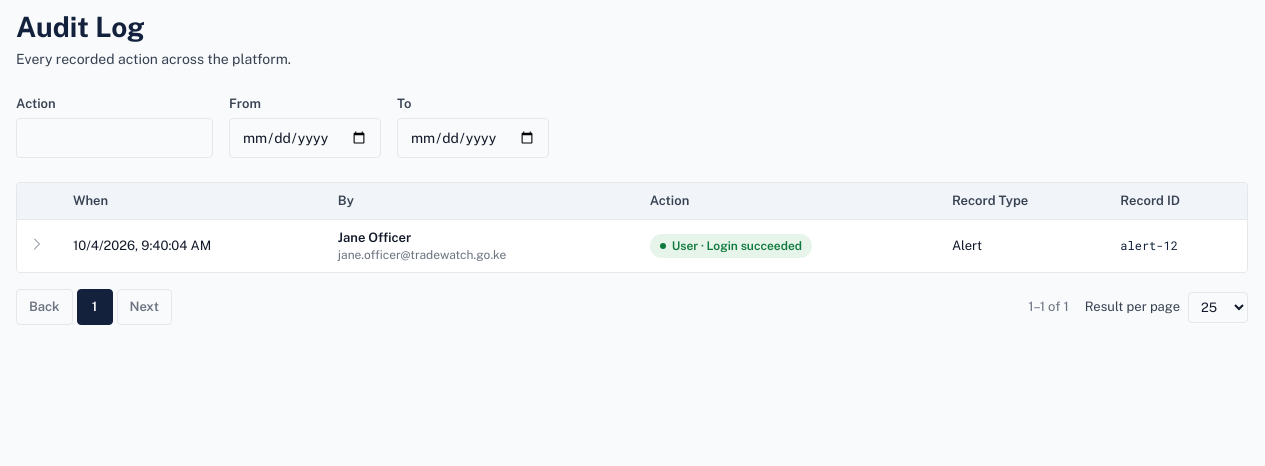
AuditLogPage › shows a no-detail message and the IP for a login attempt with no recorded changes
expect the text "Jane Officer" is shown: met, box [338,230,411,245]
Click the button named "Show what changed". click: (37, 244)
box: [27,234,47,254]
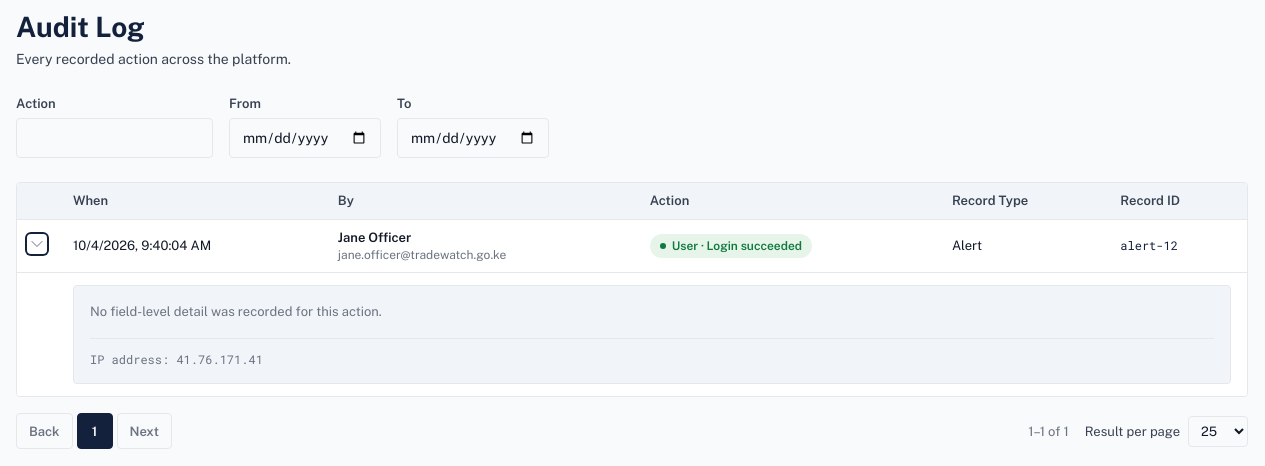
expect the text "No field-level detail was recorded for this action." is shown: met, box [90,304,382,319]
expect the text "IP address: 41.76.171.41" is shown: met, box [90,338,1214,367]
